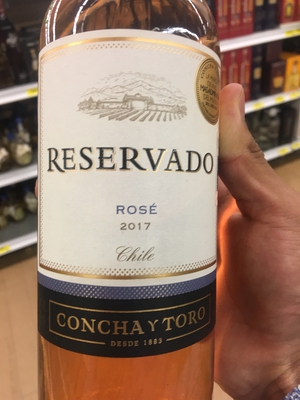reservado rose: (37, 4, 223, 400)
